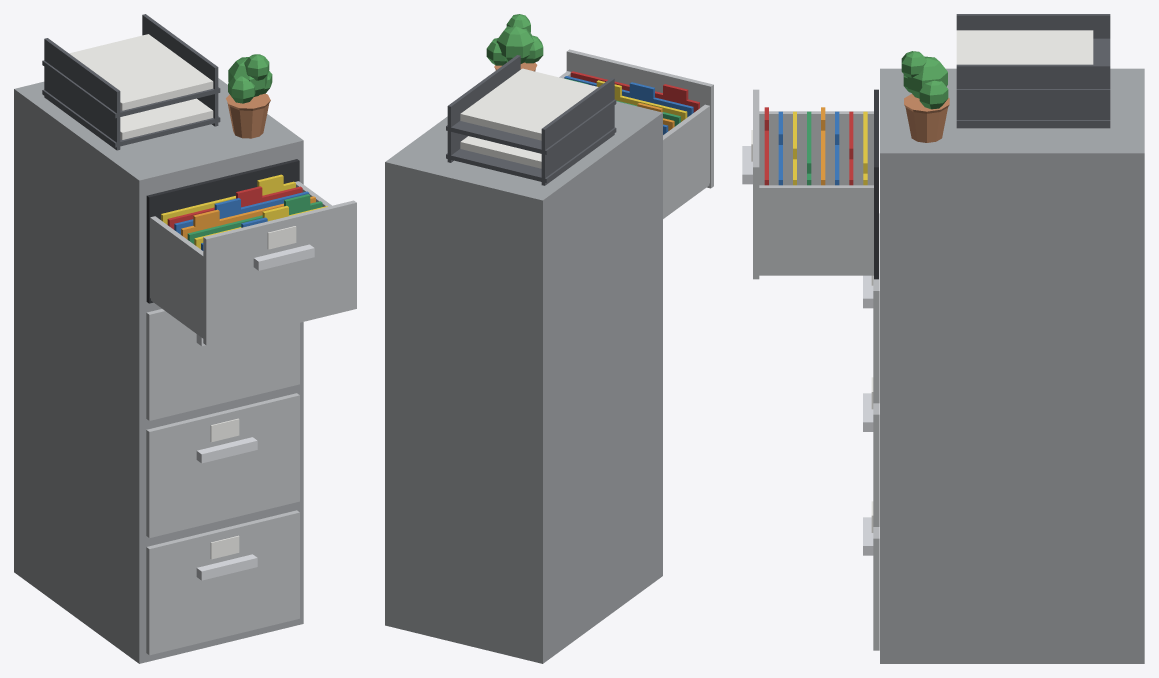
Rendered from filing_cabinet.glb.
3 views of the same model, side by side, from view 1: azimuth 30°, elevation 25°; view 2: azimuth 150°, elevation 25°; view 3: azimuth 270°, elevation 25° (orthographic). The views are drawn at different scales.
Visible parts, largest first — view 1: filing_cabinet; view 2: filing_cabinet; view 3: filing_cabinet.
Boxes of the visible parts, x1,y1,x2,y2 form: filing_cabinet: (14,14,356,663); filing_cabinet: (385,14,713,663); filing_cabinet: (742,14,1144,663).
Bounding box in the file's own units: 0.47 × 1.54 × 0.942.
